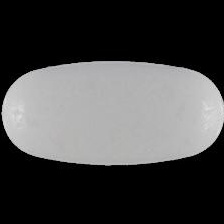63187-192: (0, 0, 224, 224)
